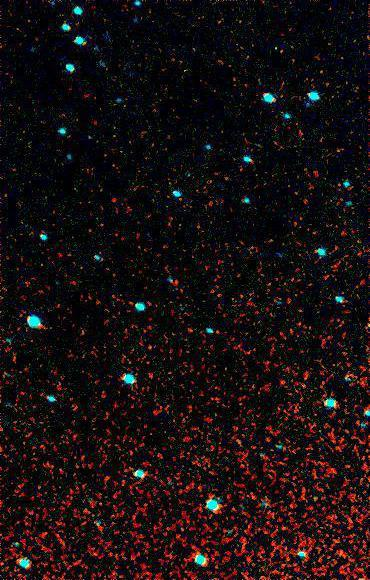star: (236, 482, 266, 512)
